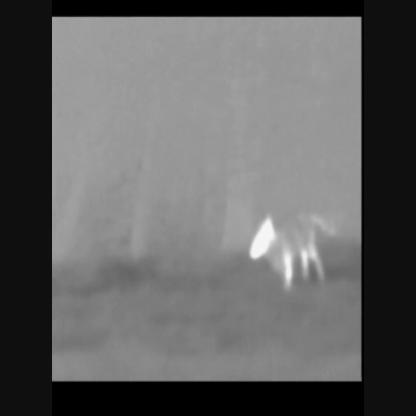rehkitze: (249, 208, 340, 290)
